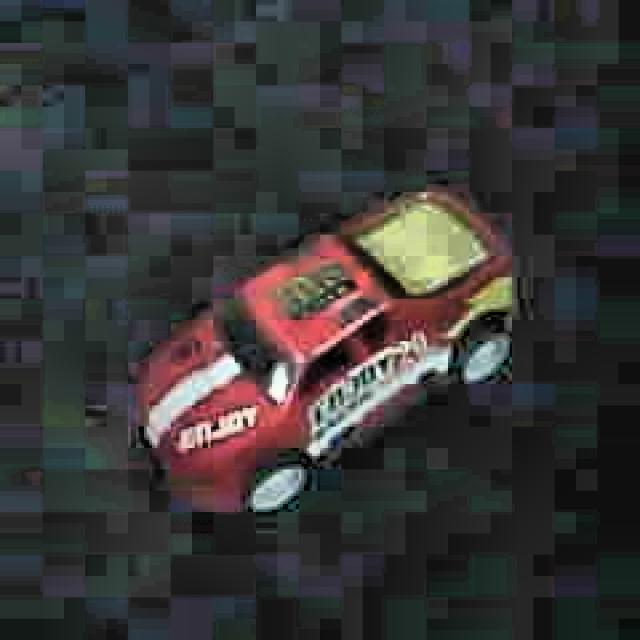car: (132, 179, 524, 530)
